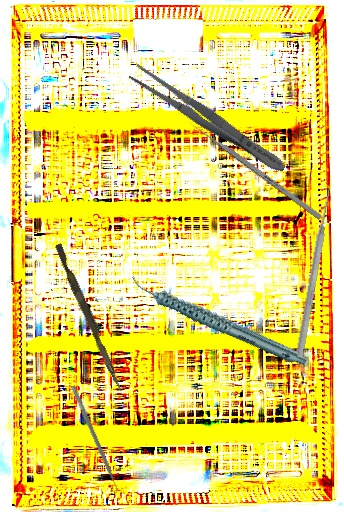Dressing Forceps: (126, 61, 291, 179)
Handpiece: (128, 242, 309, 399)
Pusher: (187, 119, 323, 221), (50, 243, 129, 392), (294, 186, 335, 359)
Spatula Surgical: (66, 385, 123, 496)
